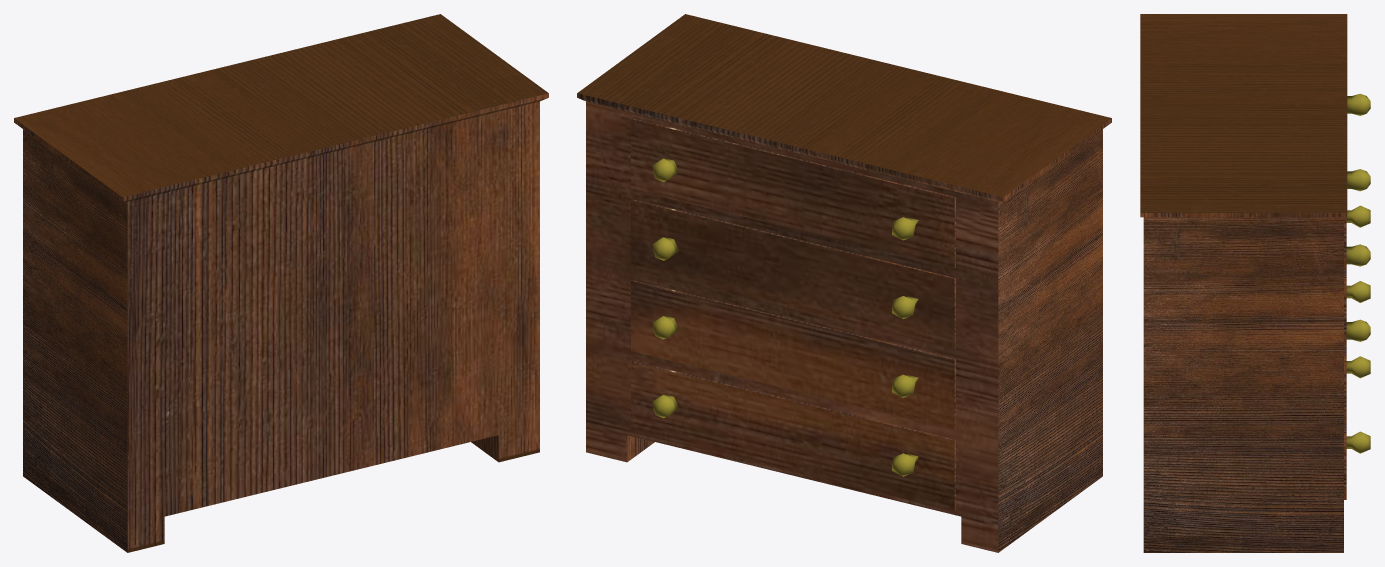
Rendered from Dresser.fbx.
3 views of the same model, side by side, from view 1: azimuth 30°, elevation 25°; view 2: azimuth 150°, elevation 25°; view 3: azimuth 270°, elevation 25° (orthographic). The views are drawn at different scales.
Visible parts, largest first — view 1: Dresser; view 2: Dresser, Knobs; view 3: Dresser, Knobs.
Boxes of the visible parts, <box> form: Dresser: <box>14,14,548,552</box>; Dresser: <box>577,14,1111,552</box>; Knobs: <box>652,158,918,476</box>; Dresser: <box>1140,14,1347,552</box>; Knobs: <box>1346,93,1370,453</box>.
Size of the model in its own units: 828 by 665 by 405.
